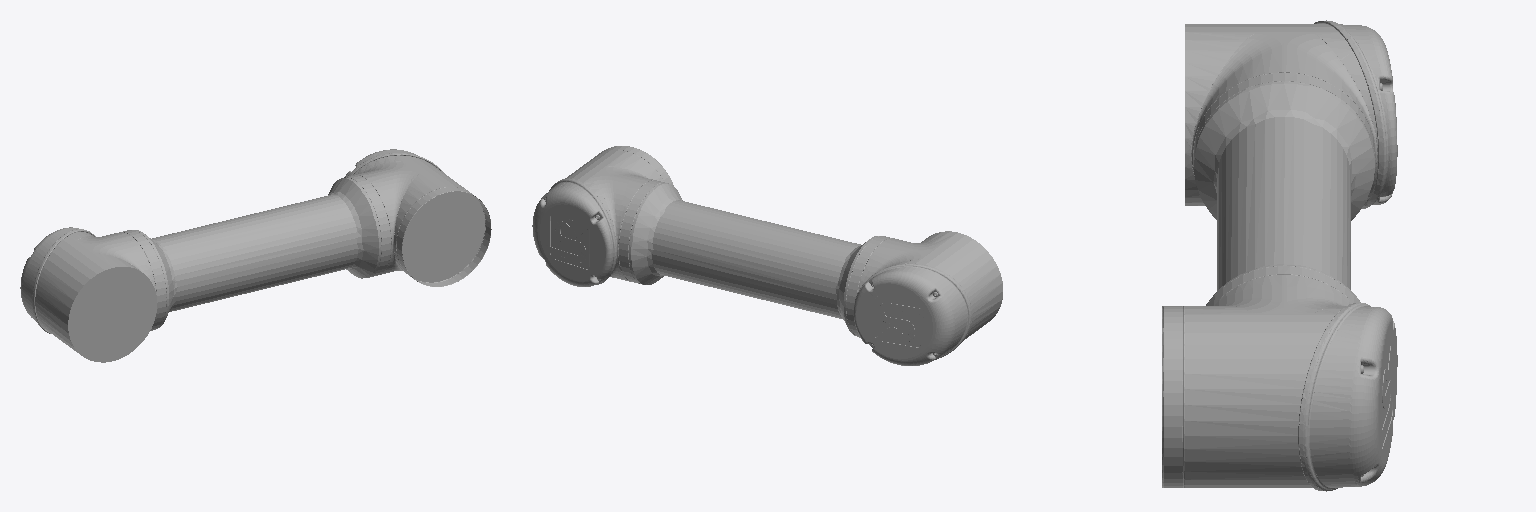
The robot description file, URDF, robot "ur5e":
<?xml version="1.0" encoding="utf-8"?>
<!-- =================================================================================== -->
<!-- |    This document was autogenerated by xacro from ur5e_robot.urdf.xacro          | -->
<!-- |    EDITING THIS FILE BY HAND IS NOT RECOMMENDED                                 | -->
<!-- =================================================================================== -->
<robot name="ur5e">
  <gazebo>
    <plugin filename="libgazebo_ros_control.so" name="ros_control">
    </plugin>
  </gazebo>
  <!-- measured from model -->
  <!-- link lengths used in model -->
  <!-- manually measured -->
  <link name="base_link">
    <visual>
      <origin rpy="0 0 3.14159265359" xyz="0 0 0.0"/>
      <geometry>
        <mesh filename="package://criur_description/meshes/ur5e/visual/base.dae"/>
      </geometry>
      <material name="LightGrey">
        <color rgba="0.7 0.7 0.7 1.0"/>
      </material>
    </visual>
    <collision>
      <origin rpy="0 0 3.14159265359" xyz="0 0 0.0"/>
      <geometry>
        <mesh filename="package://criur_description/meshes/ur5e/collision/base.stl"/>
      </geometry>
    </collision>
    <inertial>
      <mass value="4.0"/>
      <origin rpy="0 0 0" xyz="0.0 0.0 0.0"/>
      <inertia ixx="0.00443333156" ixy="0.0" ixz="0.0" iyy="0.00443333156" iyz="0.0" izz="0.0072"/>
    </inertial>
  </link>
  <joint name="shoulder_pan_joint" type="revolute">
    <parent link="base_link"/>
    <child link="shoulder_link"/>
    <origin rpy="0 0 0" xyz="0 0 0.1625"/>
    <axis xyz="0 0 1"/>
    <limit effort="150.0" lower="-3.142" upper="3.142" velocity="3.14"/>
    <dynamics damping="0.0" friction="0.0"/>
  </joint>
  <link name="shoulder_link">
    <visual>

      <geometry>
        <mesh filename="package://criur_description/meshes/ur5e/visual/shoulder.dae"/>
      </geometry>
      <material name="LightGrey">
        <color rgba="0.7 0.7 0.7 1.0"/>
      </material>
    </visual>
    <collision>

      <geometry>
        <mesh filename="package://criur_description/meshes/ur5e/collision/shoulder.stl"/>
      </geometry>
    </collision>
    <inertial>
      <mass value="3.7"/>
      <origin rpy="0 0 0" xyz="0.0 0.0 0.0"/>
      <inertia ixx="0.010267495893" ixy="0.0" ixz="0.0" iyy="0.010267495893" iyz="0.0" izz="0.00666"/>
    </inertial>
  </link>

  <joint name="shoulder_lift_joint" type="revolute">
    <parent link="shoulder_link"/>
    <child link="upper_arm_link"/>
    <origin rpy="0 1.570796327 0" xyz="0 0.138 0"/>
    <axis xyz="0 1 0"/>
    <limit effort="150.0" lower="-3.142" upper="3.142" velocity="3.14"/>
    <dynamics damping="0.0" friction="0.0"/>
  </joint>
  <link name="upper_arm_link">
    <visual>

      <geometry>
        <mesh filename="package://criur_description/meshes/ur5e/visual/upperarm.dae"/>
      </geometry>
      <material name="LightGrey">
        <color rgba="0.7 0.7 0.7 1.0"/>
      </material>
    </visual>
    <collision>

      <geometry>
        <mesh filename="package://criur_description/meshes/ur5e/collision/upperarm.stl"/>
      </geometry>
    </collision>
    <inertial>
      <mass value="8.393"/>
      <origin rpy="0 1.57079632679 0" xyz="-0.2125 0.0 0.138"/>
      <inertia ixx="0.138134736413" ixy="0.0" ixz="0.0" iyy="0.138134736413" iyz="0.0" izz="0.0236053125"/>
    </inertial>
  </link>
  <joint name="elbow_joint" type="revolute">
    <parent link="upper_arm_link"/>
    <child link="forearm_link"/>
    <origin rpy="0 0 0" xyz="0 -0.131 0.425"/>
    <axis xyz="0 1 0"/>
    <limit effort="150.0" lower="-3.142" upper="3.142" velocity="3.14"/>
    <dynamics damping="0.0" friction="0.0"/>
  </joint>
  <link name="forearm_link">
    <visual>

      <geometry>
        <mesh filename="package://criur_description/meshes/ur5e/visual/forearm.dae"/>
      </geometry>
      <material name="LightGrey">
        <color rgba="0.7 0.7 0.7 1.0"/>
      </material>
    </visual>
    <collision>

      <geometry>
        <mesh filename="package://criur_description/meshes/ur5e/collision/forearm.stl"/>
      </geometry>
    </collision>
    <inertial>
      <mass value="2.275"/>
      <origin rpy="0 1.57079632679 0" xyz="-0.2125 0.0 0.007"/>
      <inertia ixx="0.0323610733889" ixy="0.0" ixz="0.0" iyy="0.0323610733889" iyz="0.0" izz="0.0063984375"/>
    </inertial>
  </link>
  <joint name="wrist_1_joint" type="revolute">
    <parent link="forearm_link"/>
    <child link="wrist_1_link"/>
    <origin rpy="0 1.5708 0" xyz="0 0 0.3922"/>
    <axis xyz="0 1 0"/>
    <limit effort="28.0" lower="-3.142" upper="3.142" velocity="6.28"/>
    <dynamics damping="0.0" friction="0.0"/>
  </joint>
  <link name="wrist_1_link">
    <visual>

      <geometry>
        <mesh filename="package://criur_description/meshes/ur5e/visual/wrist1.dae"/>
      </geometry>
      <material name="LightGrey">
        <color rgba="0.7 0.7 0.7 1.0"/>
      </material>
    </visual>
    <collision>

      <geometry>
        <mesh filename="package://criur_description/meshes/ur5e/collision/wrist1.stl"/>
      </geometry>
    </collision>
    <inertial>
      <mass value="1.219"/>
      <origin rpy="0 0 0" xyz="0.0 0.0 0.0"/>
      <inertia ixx="0.00272396513625" ixy="0.0" ixz="0.0" iyy="0.00272396513625" iyz="0.0" izz="0.0034284375"/>
    </inertial>
  </link>

  <joint name="wrist_2_joint" type="revolute">
    <parent link="wrist_1_link"/>
    <child link="wrist_2_link"/>
    <origin rpy="0 0 0" xyz="0 0.127 0"/>
    <axis xyz="0 0 1"/>
    <limit effort="28.0" lower="-3.142" upper="3.142" velocity="6.28"/>
    <dynamics damping="0.0" friction="0.0"/>
  </joint>

  <link name="wrist_2_link">
    <visual>

      <geometry>
        <mesh filename="package://criur_description/meshes/ur5e/visual/wrist2.dae"/>
      </geometry>
      <material name="LightGrey">
        <color rgba="0.7 0.7 0.7 1.0"/>
      </material>
    </visual>
    <collision>
 
      <geometry>
        <mesh filename="package://criur_description/meshes/ur5e/collision/wrist2.stl"/>
      </geometry>
    </collision>
    <inertial>
      <mass value="1.219"/>
      <origin rpy="0 0 0" xyz="0.0 0.0 0.0"/>
      <inertia ixx="0.00272194058122" ixy="0.0" ixz="0.0" iyy="0.00272194058122" iyz="0.0" izz="0.0034284375"/>
    </inertial>
  </link>

  <joint name="wrist_3_joint" type="revolute">
    <parent link="wrist_2_link"/>
    <child link="wrist_3_link"/>
    <origin rpy="0 0 0" xyz="0 0 0.1"/>
    <axis xyz="0 1 0"/>
    <limit effort="28.0" lower="-3.142" upper="3.142" velocity="6.28"/>
    <dynamics damping="0.0" friction="0.0"/>
  </joint>
  <link name="wrist_3_link">
    <visual>
      <geometry>
        <mesh filename="package://criur_description/meshes/ur5e/visual/wrist3.dae"/>
      </geometry>

    </visual>
    <collision>

      <geometry>
        <mesh filename="package://criur_description/meshes/ur5e/collision/wrist3.stl"/>
      </geometry>
    </collision>
    <inertial>
      <mass value="0.1879"/>
      <origin rpy="0 0 0" xyz="0.0 0.0 -0.025"/>
      <inertia ixx="0.000134270154625" ixy="0.0" ixz="0.0" iyy="0.000134270154625" iyz="0.0" izz="0.00019024875"/>
    </inertial>
  </link>
  <joint name="ee_fixed_joint" type="fixed">
    <parent link="wrist_3_link"/>
    <child link="ee_link"/>
    <origin rpy="-1.5708 0.0 0" xyz="0.0 0.1 0.0"/>
  </joint>
  <link name="ee_link">
    <collision>
      <geometry>
        <box size="0.01 0.01 0.01"/>
      </geometry>
      <origin rpy="0 0 0" xyz="-0.01 0 0"/>
    </collision>
  </link>
  <transmission name="shoulder_pan_trans">
    <type>transmission_interface/SimpleTransmission</type>
    <joint name="shoulder_pan_joint">
      <hardwareInterface>hardware_interface/PositionJointInterface</hardwareInterface>
    </joint>
    <actuator name="shoulder_pan_motor">
      <mechanicalReduction>1</mechanicalReduction>
    </actuator>
  </transmission>
  <transmission name="shoulder_lift_trans">
    <type>transmission_interface/SimpleTransmission</type>
    <joint name="shoulder_lift_joint">
      <hardwareInterface>hardware_interface/PositionJointInterface</hardwareInterface>
    </joint>
    <actuator name="shoulder_lift_motor">
      <mechanicalReduction>1</mechanicalReduction>
    </actuator>
  </transmission>
  <transmission name="elbow_trans">
    <type>transmission_interface/SimpleTransmission</type>
    <joint name="elbow_joint">
      <hardwareInterface>hardware_interface/PositionJointInterface</hardwareInterface>
    </joint>
    <actuator name="elbow_motor">
      <mechanicalReduction>1</mechanicalReduction>
    </actuator>
  </transmission>
  <transmission name="wrist_1_trans">
    <type>transmission_interface/SimpleTransmission</type>
    <joint name="wrist_1_joint">
      <hardwareInterface>hardware_interface/PositionJointInterface</hardwareInterface>
    </joint>
    <actuator name="wrist_1_motor">
      <mechanicalReduction>1</mechanicalReduction>
    </actuator>
  </transmission>
  <transmission name="wrist_2_trans">
    <type>transmission_interface/SimpleTransmission</type>
    <joint name="wrist_2_joint">
      <hardwareInterface>hardware_interface/PositionJointInterface</hardwareInterface>
    </joint>
    <actuator name="wrist_2_motor">
      <mechanicalReduction>1</mechanicalReduction>
    </actuator>
  </transmission>
  <transmission name="wrist_3_trans">
    <type>transmission_interface/SimpleTransmission</type>
    <joint name="wrist_3_joint">
      <hardwareInterface>hardware_interface/PositionJointInterface</hardwareInterface>
    </joint>
    <actuator name="wrist_3_motor">
      <mechanicalReduction>1</mechanicalReduction>
    </actuator>
  </transmission>
  <gazebo reference="shoulder_link">
    <selfCollide>true</selfCollide>
  </gazebo>
  <gazebo reference="upper_arm_link">
    <selfCollide>true</selfCollide>
  </gazebo>
  <gazebo reference="forearm_link">
    <selfCollide>true</selfCollide>
  </gazebo>
  <gazebo reference="wrist_1_link">
    <selfCollide>true</selfCollide>
  </gazebo>
  <gazebo reference="wrist_3_link">
    <selfCollide>true</selfCollide>
  </gazebo>
  <gazebo reference="wrist_2_link">
    <selfCollide>true</selfCollide>
  </gazebo>
  <gazebo reference="ee_link">
    <selfCollide>true</selfCollide>
  </gazebo>
  <!-- ROS base_link to UR 'Base' Coordinates transform -->
  <link name="base"/>
  <joint name="base_link-base_fixed_joint" type="fixed">
    <!-- NOTE: this rotation is only needed as long as base_link itself is
                 not corrected wrt the real robot (ie: rotated over 180
                 degrees)
      -->
    <origin rpy="0 0 -3.14159265359" xyz="0 0 0"/>
    <parent link="base_link"/>
    <child link="base"/>
  </joint>
  <!-- Frame coincident with all-zeros TCP on UR controller -->
  <link name="tool0"/>
  <joint name="wrist_3_link-tool0_fixed_joint" type="fixed">
    <origin rpy="-1.5708 0 0" xyz="0 0.1 0"/>
    <parent link="wrist_3_link"/>
    <child link="tool0"/>
  </joint>
  <link name="world"/>
  <joint name="world_joint" type="fixed">
    <parent link="world"/>
    <child link="base_link"/>
    <origin rpy="0.0 0.0 0.0" xyz="0.0 0.0 0.0"/>
  </joint>
</robot>

--- Render facts (derived) ---
3 views of the same robot in one strip: view 1: azimuth 30°, elevation 25°; view 2: azimuth 150°, elevation 25°; view 3: azimuth 270°, elevation 25° (orthographic).
Robot: ur5e — 11 links, 10 joints (6 revolute, 4 fixed); root link world; default pose: all joints at 0.
Visible links, largest first — view 1: upper_arm_link; view 2: upper_arm_link; view 3: upper_arm_link.
Boxes of the visible links, x1=… form: upper_arm_link: x1=20, y1=149, x2=491, y2=362; upper_arm_link: x1=532, y1=146, x2=1002, y2=365; upper_arm_link: x1=1162, y1=20, x2=1397, y2=491.
Bounding box of the posed robot: 0.5452 × 0.1496 × 0.1202 m (x, y, z).
Meshes: 7 distinct files referenced, 1 mesh visuals loaded (1 Collada DAE); not drawn: 6 (reference not matched to a file when rendering).